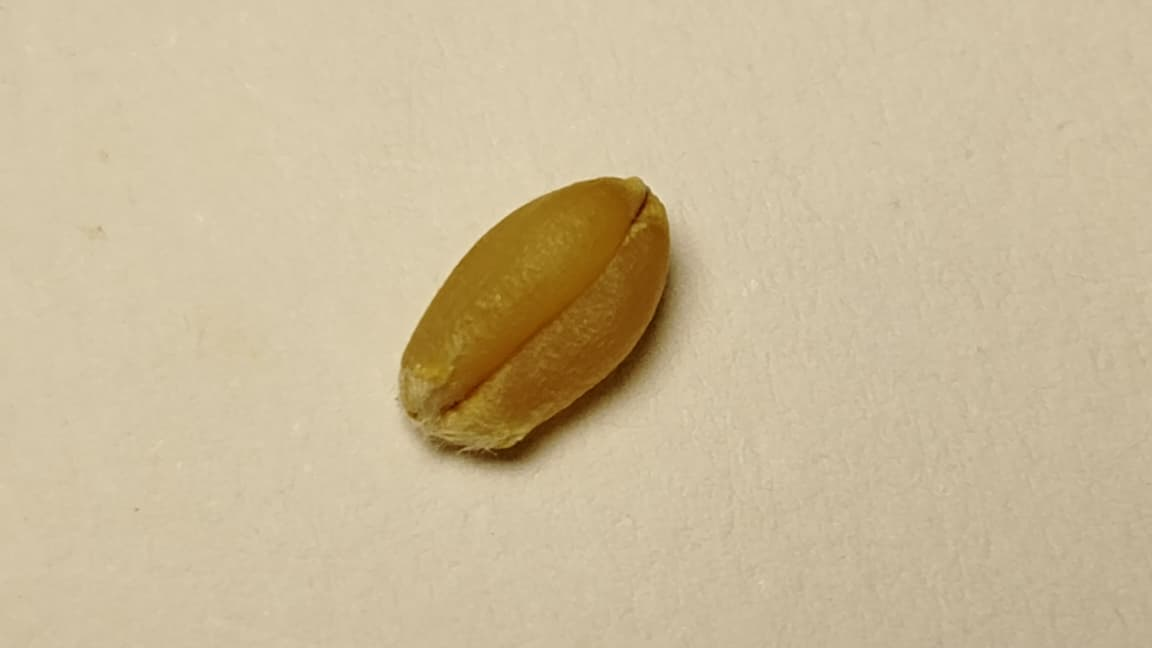healthy: (401, 177, 668, 450)
